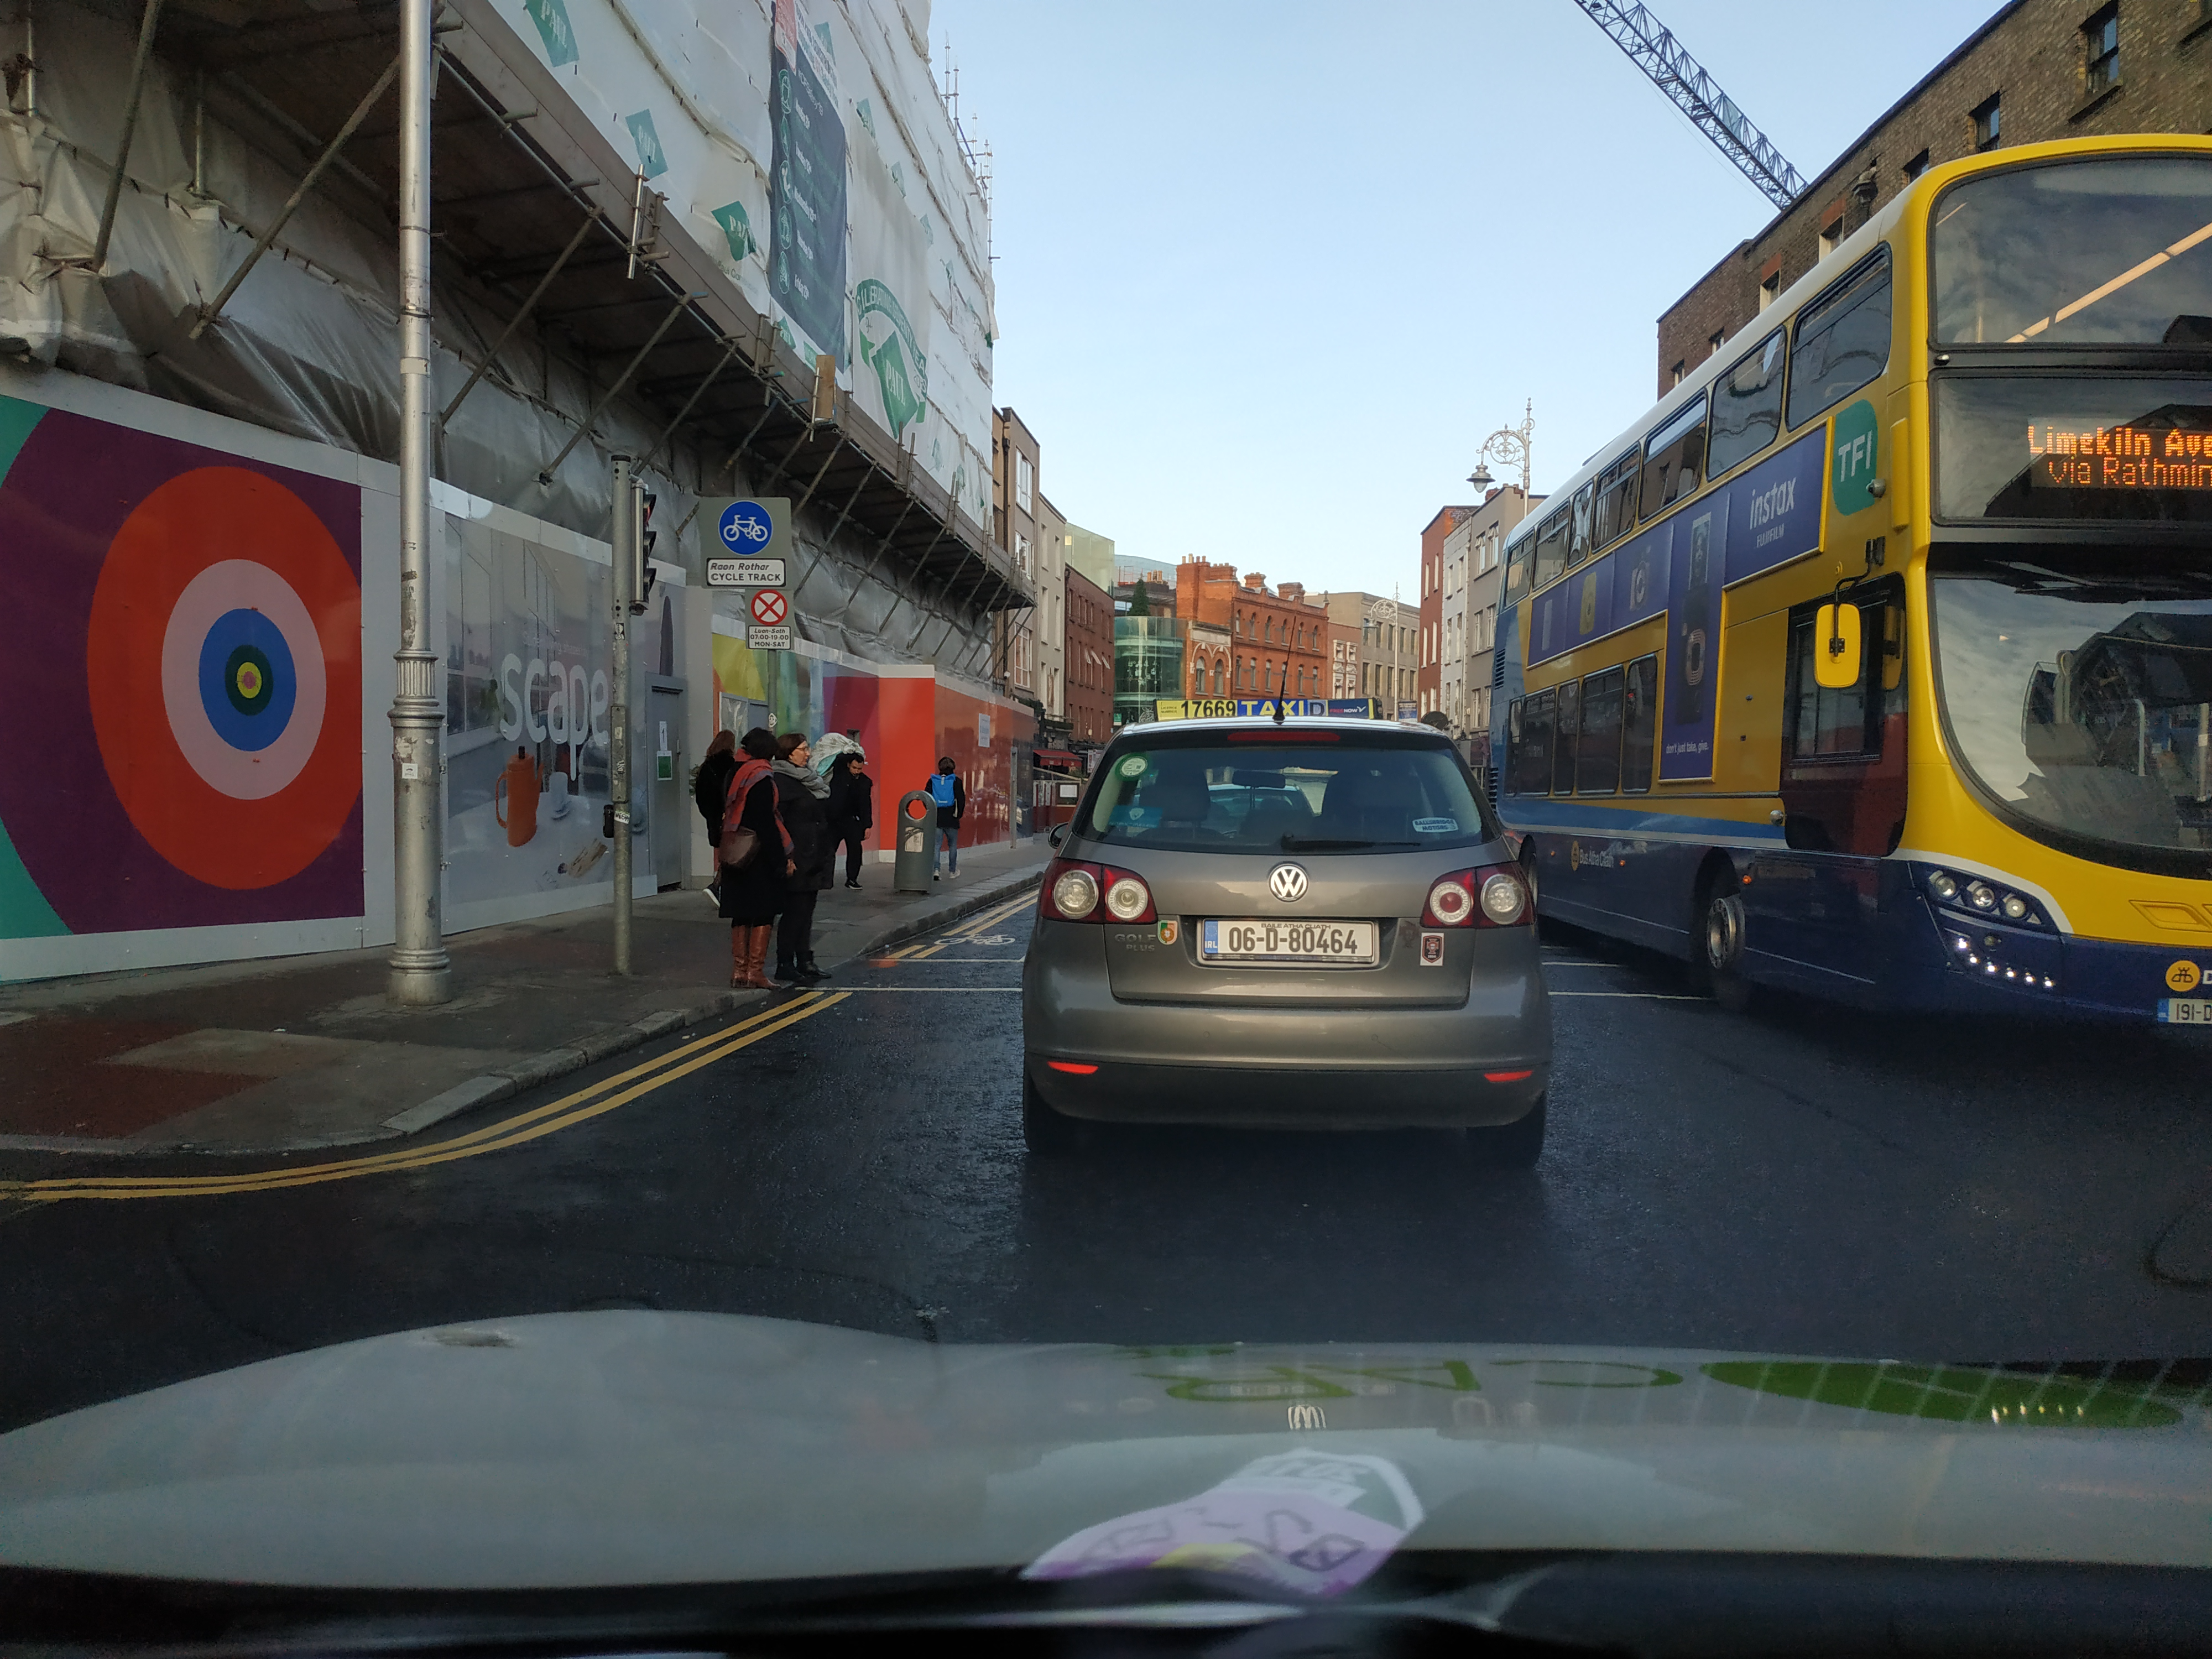Bus: (1487, 129, 2212, 1032)
Car: (1022, 697, 1553, 1170)
Person: (718, 728, 782, 990), (773, 732, 832, 982), (695, 730, 739, 908), (818, 753, 873, 890), (922, 757, 966, 880)
